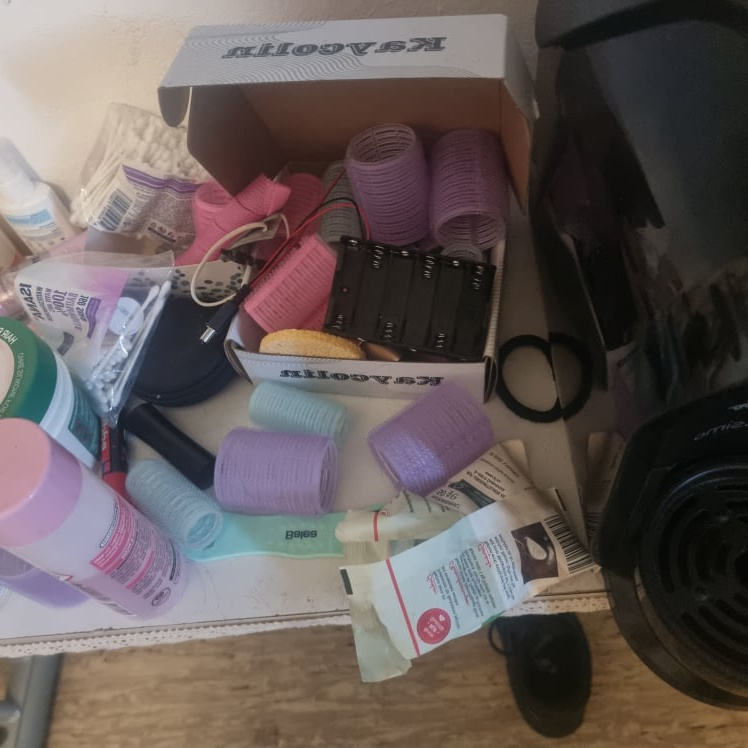BATTERY BOX: (321, 235, 494, 361)
